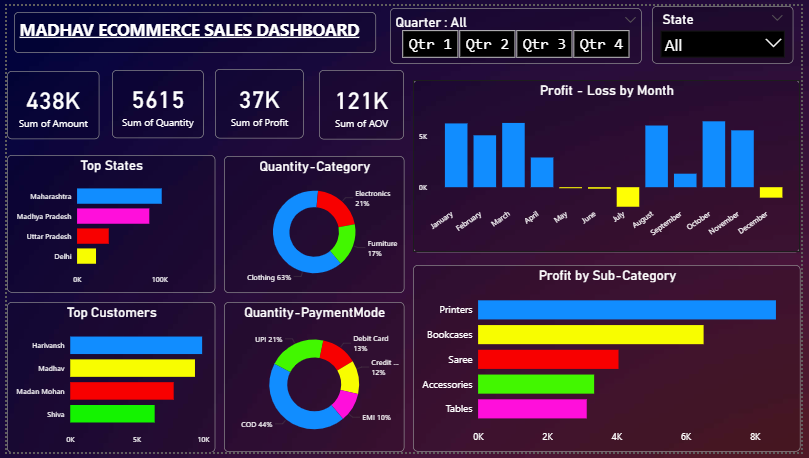

What the dashboard file says about the page in this screenshot:
{"tool":"powerbi","page":{"name":"Page 1","canvas":[1280,720],"ordinal":0},"visuals":[{"type":"textbox","box":[11.9,10.4,583.6,65.7],"z":0},{"type":"columnChart","title":"Profit - Loss by Month","fields":{"Category":["Orders.Order Date.Variation.Date Hierarchy.Month"],"Y":["Details.Profit"]},"box":[655.2,119.4,623.9,277.6],"z":1000},{"type":"barChart","title":"Profit by Sub-Category","fields":{"Category":["Details.Sub-Category"],"Y":["Details.Profit"]},"box":[655.2,417.9,625.4,301.5],"z":2000},{"type":"donutChart","title":"Quantity-Category","fields":{"Category":["Details.Category"],"Y":["Details.Quantity"]},"box":[349.3,241.8,291,220.9],"z":3000},{"type":"donutChart","title":" Quantity-PaymentMode","fields":{"Y":["Details.Quantity"],"Category":["Details.PaymentMode"]},"box":[349.3,477.6,291,241.8],"z":4000},{"type":"card","fields":{"Values":["Details.Profit"]},"box":[335.8,101.5,143.3,111.9],"z":5000},{"type":"card","fields":{"Values":["Details.Quantity"]},"box":[168.7,103,147.8,110.4],"z":6000},{"type":"card","fields":{"Values":["Details.Amount"]},"box":[0,104.5,149.3,110.4],"z":7000},{"type":"card","fields":{"Values":["Details.AOV"]},"box":[503,103,137.3,111.9],"z":8000},{"type":"barChart","title":"Top States","fields":{"Y":["Details.Amount"],"Category":["Orders.State"]},"box":[0,240.3,335.8,222.4],"z":9000},{"type":"barChart","title":"Top Customers","fields":{"Y":["Details.Amount"],"Category":["Orders.CustomerName"]},"box":[0,477.6,335.8,243.3],"z":10000},{"type":"slicer","fields":{"Values":["Orders.State"]},"box":[1040.3,0,228.4,92.5],"z":11000},{"type":"slicer","fields":{"Values":["Orders.Order Date.Variation.Date Hierarchy.Quarter"]},"box":[617.9,3,406,89.6],"z":12000}]}

Visuals, with their boxes in screenshot pixels (x1, y1, x2, y2), scaled from the page's 1280x720 canvas onto the 809x458 screenshot:
textbox: {"left": 8, "top": 7, "right": 376, "bottom": 48}
"Profit - Loss by Month" columnChart: {"left": 414, "top": 76, "right": 808, "bottom": 253}
"Profit by Sub-Category" barChart: {"left": 414, "top": 266, "right": 808, "bottom": 457}
"Quantity-Category" donutChart: {"left": 221, "top": 154, "right": 405, "bottom": 294}
" Quantity-PaymentMode" donutChart: {"left": 221, "top": 304, "right": 405, "bottom": 457}
card - Details.Profit: {"left": 212, "top": 65, "right": 303, "bottom": 136}
card - Details.Quantity: {"left": 107, "top": 66, "right": 200, "bottom": 136}
card - Details.Amount: {"left": 0, "top": 66, "right": 94, "bottom": 137}
card - Details.AOV: {"left": 318, "top": 66, "right": 405, "bottom": 137}
"Top States" barChart: {"left": 0, "top": 153, "right": 212, "bottom": 294}
"Top Customers" barChart: {"left": 0, "top": 304, "right": 212, "bottom": 457}
slicer - Orders.State: {"left": 658, "top": 0, "right": 802, "bottom": 59}
slicer - Orders.Order Date.Variation.Date Hierarchy.Quarter: {"left": 391, "top": 2, "right": 647, "bottom": 59}
